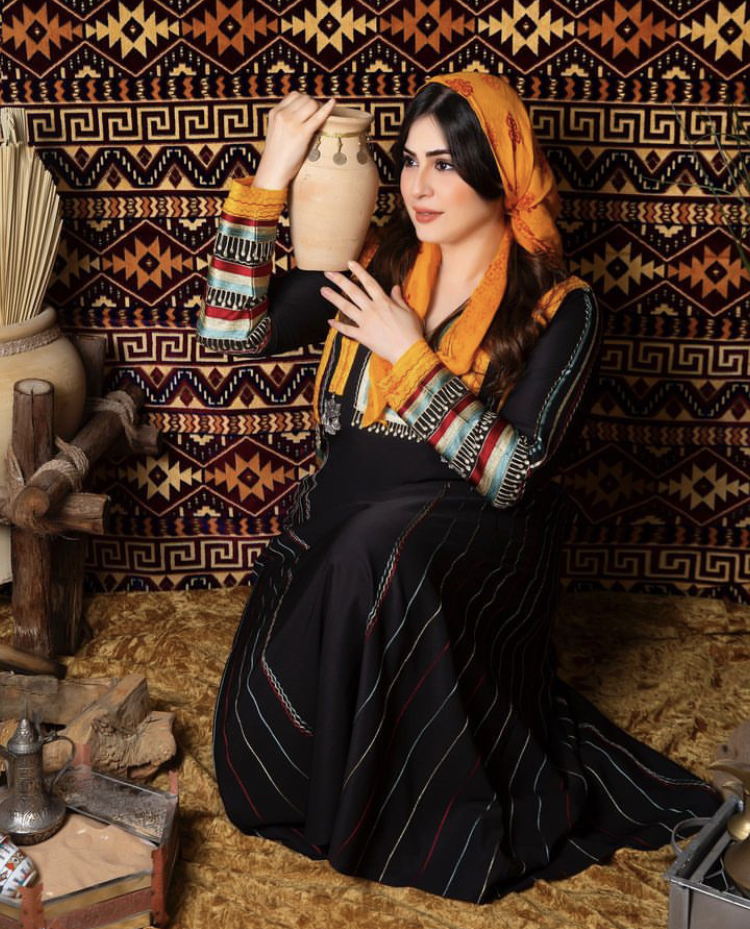Saudi_Founding_Day: (190, 64, 733, 908)
